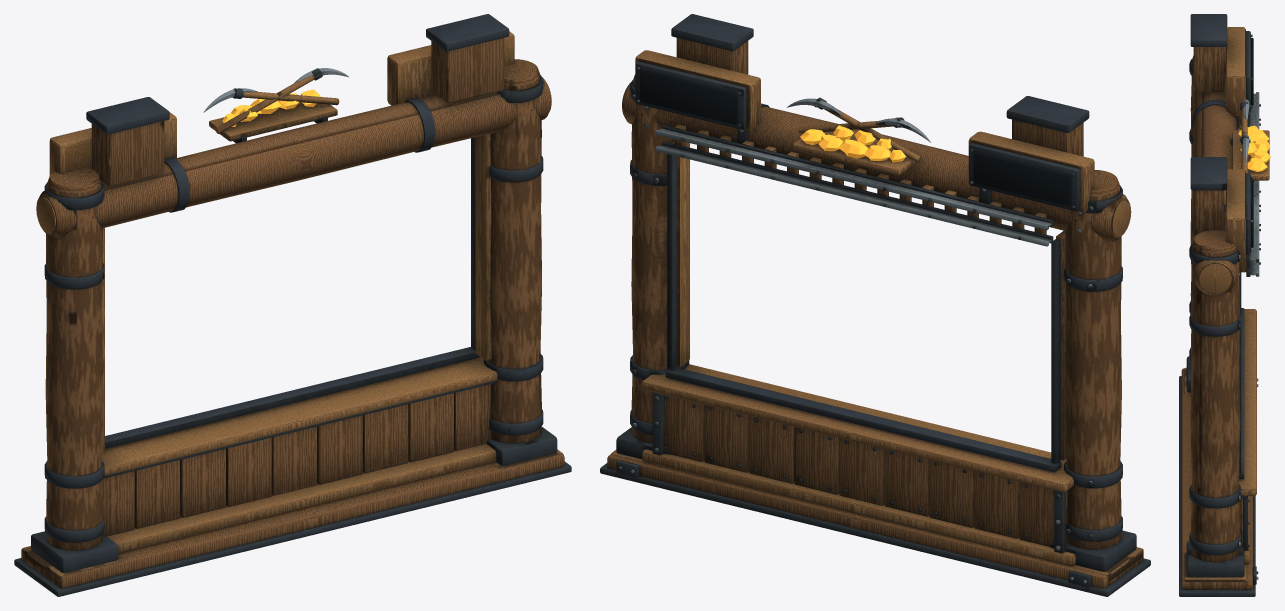
3 renders of one model, left to right at view 1: azimuth 30°, elevation 25°; view 2: azimuth 150°, elevation 25°; view 3: azimuth 270°, elevation 25°, orthographic. The views are drawn at different scales.
Parts seen in each view (by area): view 1: Aged_mine_timber, Worn_timber_edges, Forged_iron, Gold_ore_glow; view 2: Aged_mine_timber, Forged_iron, Worn_timber_edges, Worked_pick_and_rail_steel, Blank_charcoal_display, Gold_ore_glow; view 3: Aged_mine_timber, Forged_iron, Worn_timber_edges, Worked_pick_and_rail_steel, Gold_ore_glow, Blank_charcoal_display.
Part boxes in pixels (bbox=[...]): Aged_mine_timber: bbox=[21, 38, 564, 588]; Worn_timber_edges: bbox=[24, 31, 562, 578]; Forged_iron: bbox=[14, 14, 571, 596]; Gold_ore_glow: bbox=[222, 89, 320, 126]; Aged_mine_timber: bbox=[607, 38, 1143, 588]; Forged_iron: bbox=[600, 14, 1150, 596]; Worn_timber_edges: bbox=[611, 50, 1142, 581]; Worked_pick_and_rail_steel: bbox=[618, 67, 1093, 583]; Blank_charcoal_display: bbox=[640, 70, 1070, 206]; Gold_ore_glow: bbox=[800, 125, 906, 162]; Aged_mine_timber: bbox=[1181, 47, 1252, 589]; Forged_iron: bbox=[1179, 14, 1260, 596]; Worn_timber_edges: bbox=[1184, 27, 1269, 581]; Worked_pick_and_rail_steel: bbox=[1238, 34, 1259, 579]; Gold_ore_glow: bbox=[1238, 125, 1270, 171]; Blank_charcoal_display: bbox=[1251, 38, 1253, 247].
Bounding box in the file's own units: 11.06 × 9.3 × 1.98.
6 materials, 6 textured.
